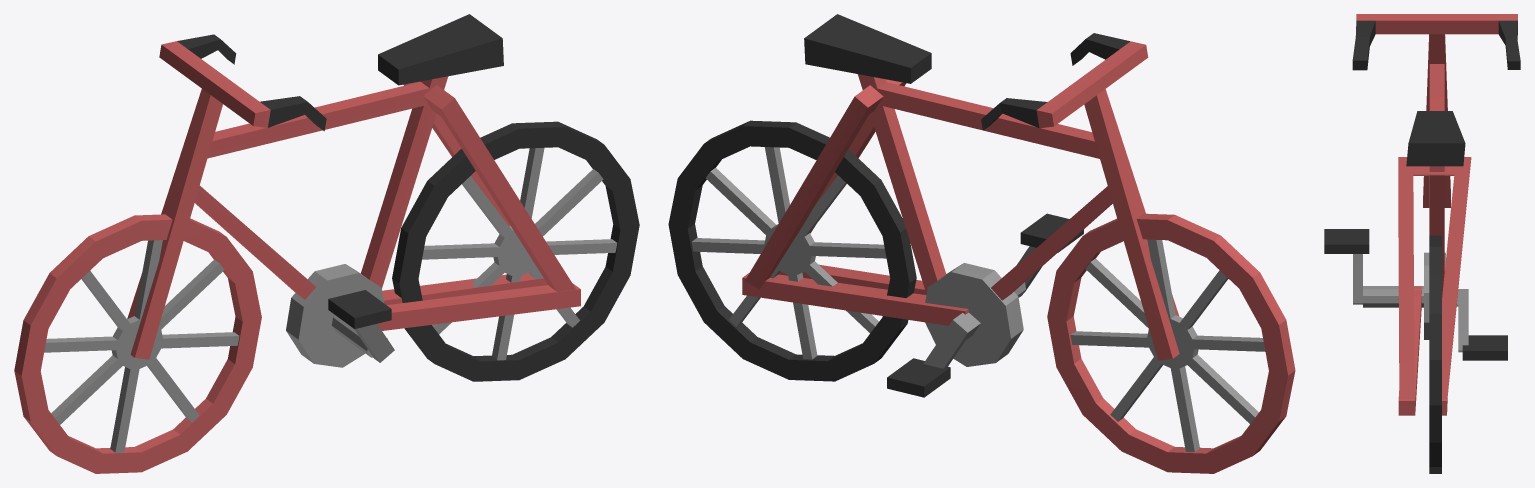
File: B02_velo_2.fbx
3 views of the same model, side by side, from view 1: azimuth 30°, elevation 25°; view 2: azimuth 150°, elevation 25°; view 3: azimuth 270°, elevation 25° (orthographic). The views are drawn at different scales.
Visible parts, largest first — view 1: B02_velo_2; view 2: B02_velo_2; view 3: B02_velo_2.
Part boxes in pixels (<box>): B02_velo_2: <box>14,14,639,473</box>; B02_velo_2: <box>668,14,1295,473</box>; B02_velo_2: <box>1324,14,1520,473</box>.
Size of the model in its own units: 306 by 176 by 97.92.
